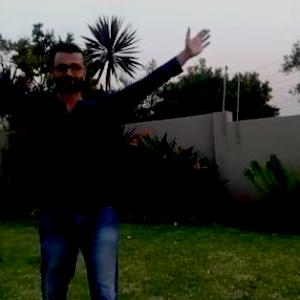takeoff: (1, 31, 174, 299)
